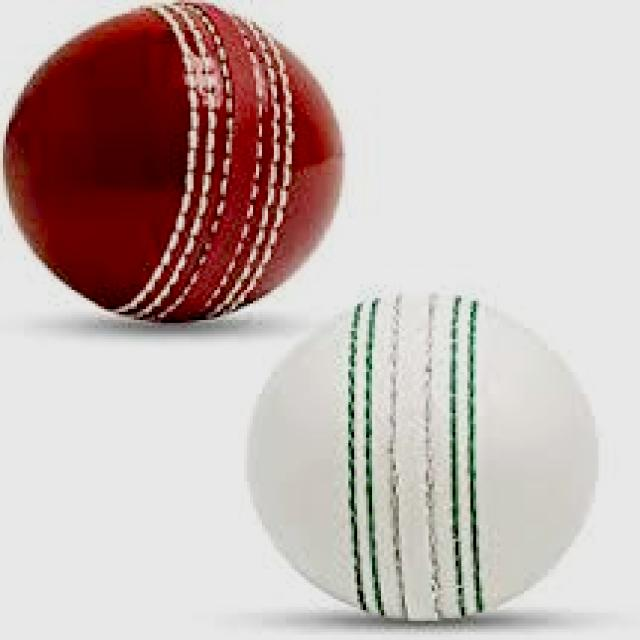ball: (254, 284, 612, 632)
